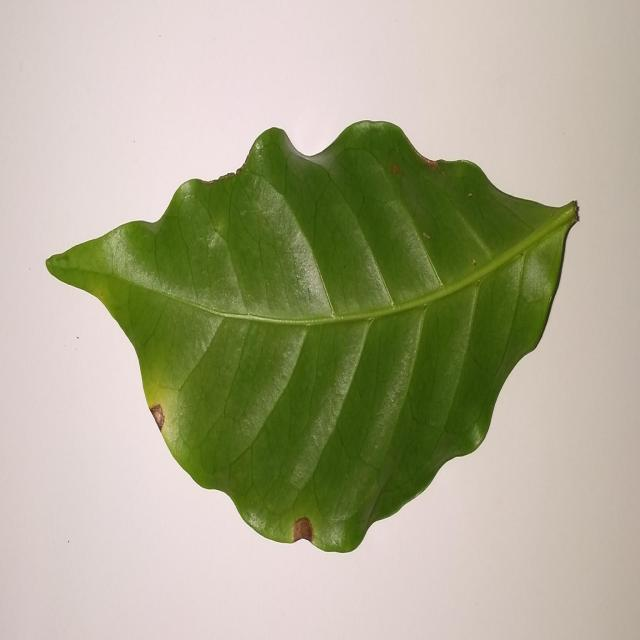Enfermedad-Mancha-de-hierro: (43, 121, 581, 556)
